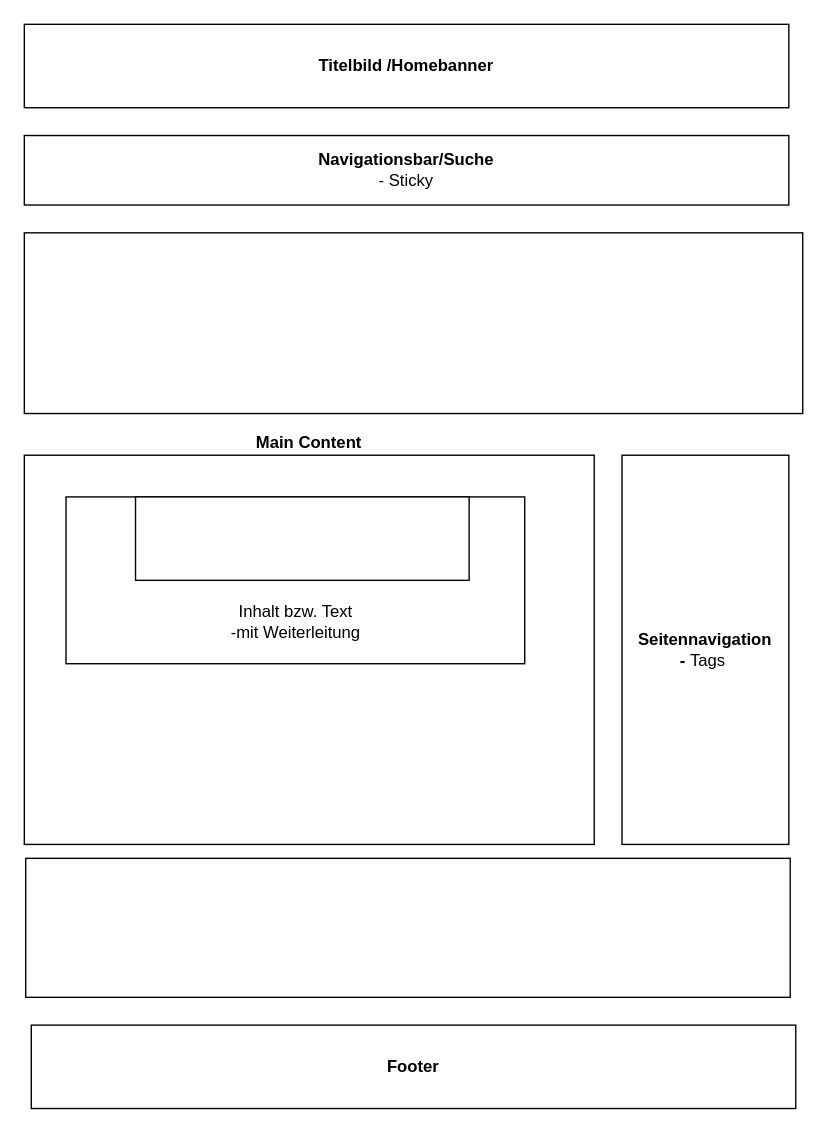
This 827x1133 diagram has some shape labels left out. Here are the shapes that lost their labels. From the top down, the centre of each, then its label:
the point at 413,322: Slidebar
the point at 301,538: Bild
the point at 407,927: Placeholder - Videos oder anderer Content
